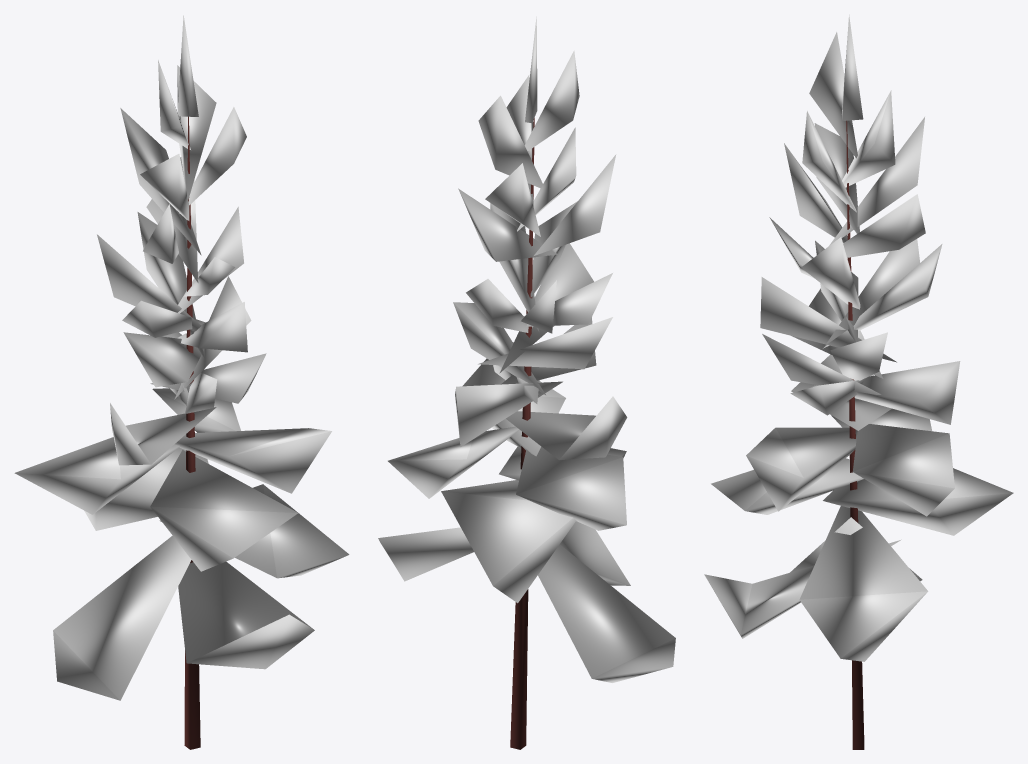
Rendered from pine2Snow_low.glb.
3 views of the same model, side by side, from view 1: azimuth 30°, elevation 25°; view 2: azimuth 150°, elevation 25°; view 3: azimuth 270°, elevation 25° (orthographic).
Parts seen in each view (by area): view 1: Cube.001; view 2: Cube.001; view 3: Cube.001.
Boxes of the visible parts, x1,y1,x2,y2 form: Cube.001: (14, 15, 349, 749); Cube.001: (378, 16, 675, 749); Cube.001: (704, 14, 1013, 749).
Size of the model in its own units: 9.59 by 23.05 by 8.91.
